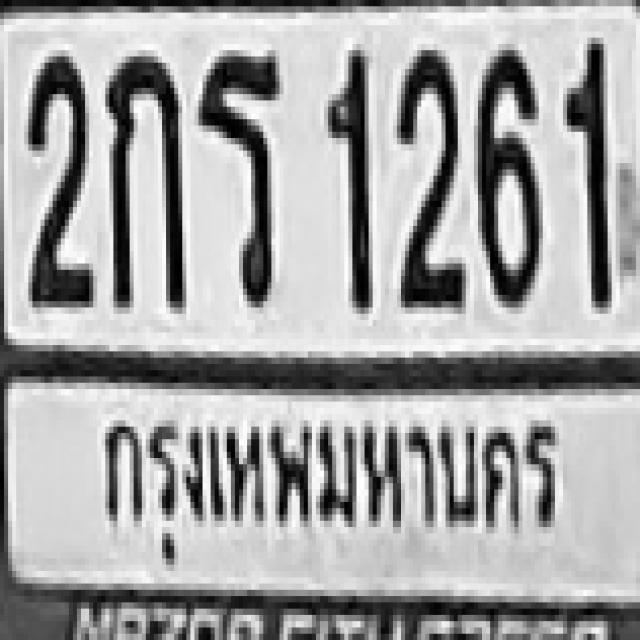1: (563, 38, 608, 308), (324, 44, 369, 307)
10GorGai: (106, 50, 182, 301)
2: (395, 44, 464, 301), (24, 50, 89, 301)
44RorRuea: (194, 50, 280, 301)
6: (474, 44, 539, 301)
Bangkok: (92, 392, 576, 577)
